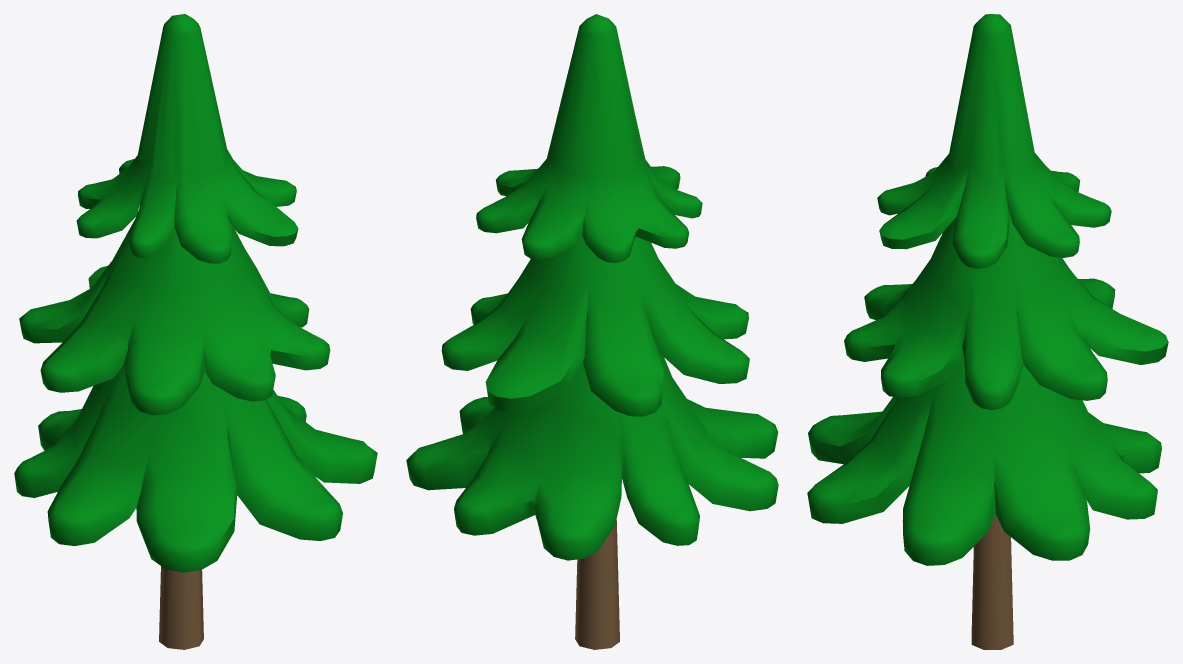
The model's file is Elka.fbx.
The picture shows the model from 3 angles, left to right: view 1: azimuth 30°, elevation 25°; view 2: azimuth 150°, elevation 25°; view 3: azimuth 270°, elevation 25°; orthographic projection.
Parts seen in each view (by area): view 1: Cylinder; view 2: Cylinder; view 3: Cylinder.
Part boxes in pixels (<box>): Cylinder: <box>14,14,377,649</box>; Cylinder: <box>406,14,778,649</box>; Cylinder: <box>807,14,1168,649</box>.
Size of the model in its own units: 1.26 by 2.38 by 1.24.
